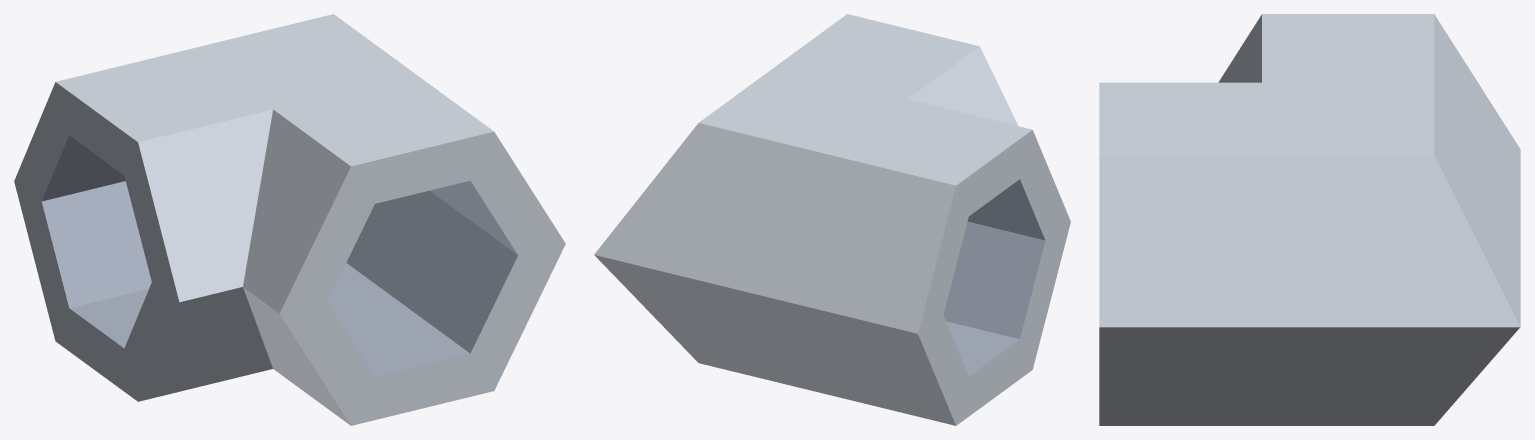
File: pipe_corner.dae
3 views of the same model, side by side, from view 1: azimuth 30°, elevation 25°; view 2: azimuth 150°, elevation 25°; view 3: azimuth 270°, elevation 25° (orthographic). The views are drawn at different scales.
Parts seen in each view (by area): view 1: pipe_corner; view 2: pipe_corner; view 3: pipe_corner.
Boxes of the visible parts, x1=… form: pipe_corner: x1=14, y1=14, x2=565, y2=425; pipe_corner: x1=594, y1=14, x2=1070, y2=425; pipe_corner: x1=1099, y1=14, x2=1520, y2=425.
Bounding box in the file's own units: 0.8464 × 0.6 × 0.8464.
